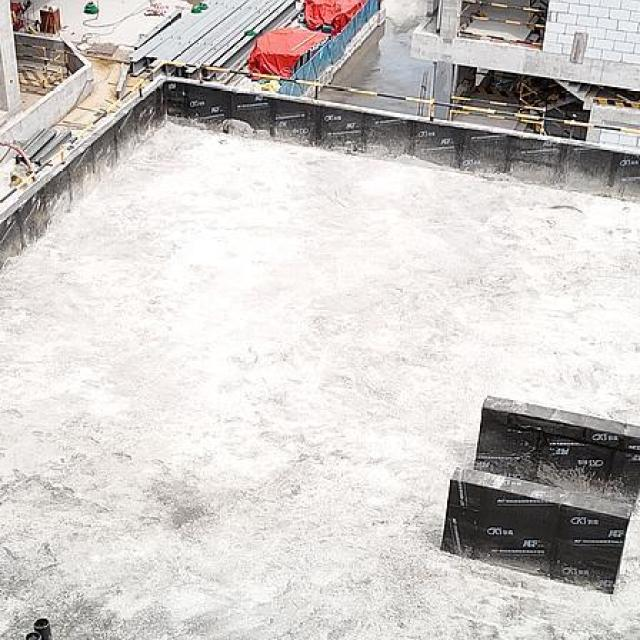edge_guardrail: (0, 60, 640, 204), (459, 0, 547, 29), (450, 95, 547, 116)
